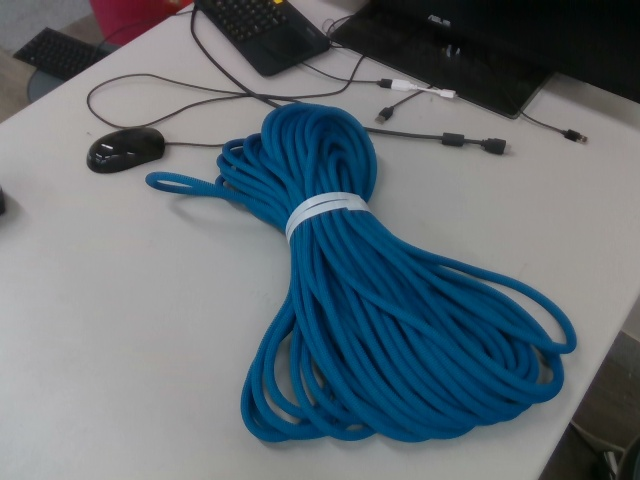rope: (140, 99, 584, 445)
